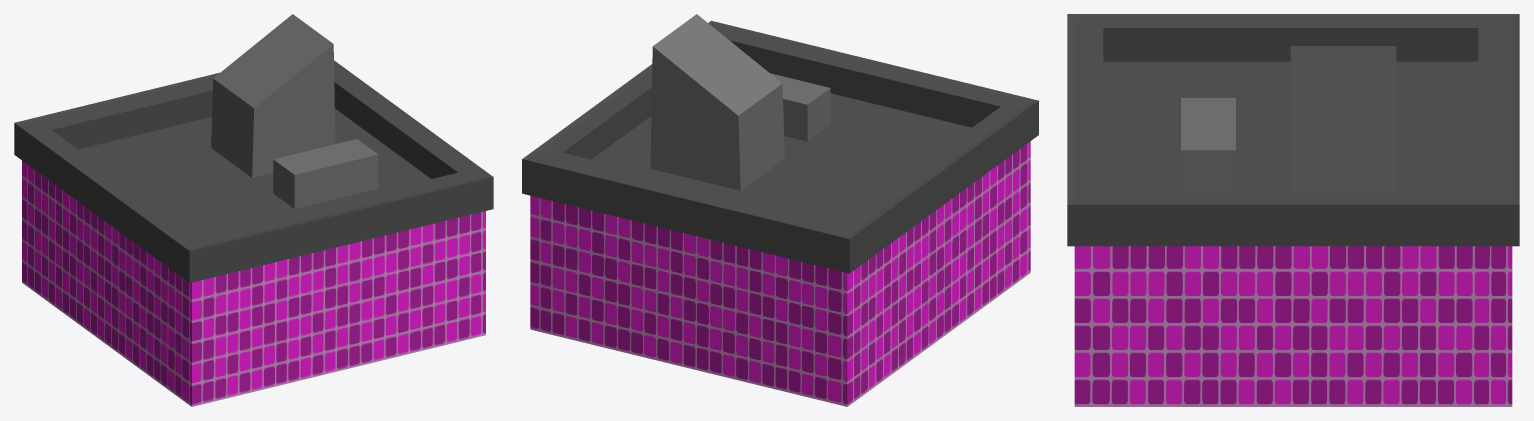
The model's file is Building Top.fbx.
The picture shows the model from 3 angles, left to right: view 1: azimuth 30°, elevation 25°; view 2: azimuth 150°, elevation 25°; view 3: azimuth 270°, elevation 25°; orthographic projection. The views are drawn at different scales.
Visible parts, largest first — view 1: polySurface65; view 2: polySurface65; view 3: polySurface65.
Part boxes in pixels (box(x1,y1,x2,y2)): polySurface65: box(14, 14, 493, 406); polySurface65: box(522, 14, 1038, 406); polySurface65: box(1067, 14, 1519, 406).
Bounding box in the file's own units: 13.3 × 10.31 × 13.3.
Materials: 3 (1 with a texture image).
